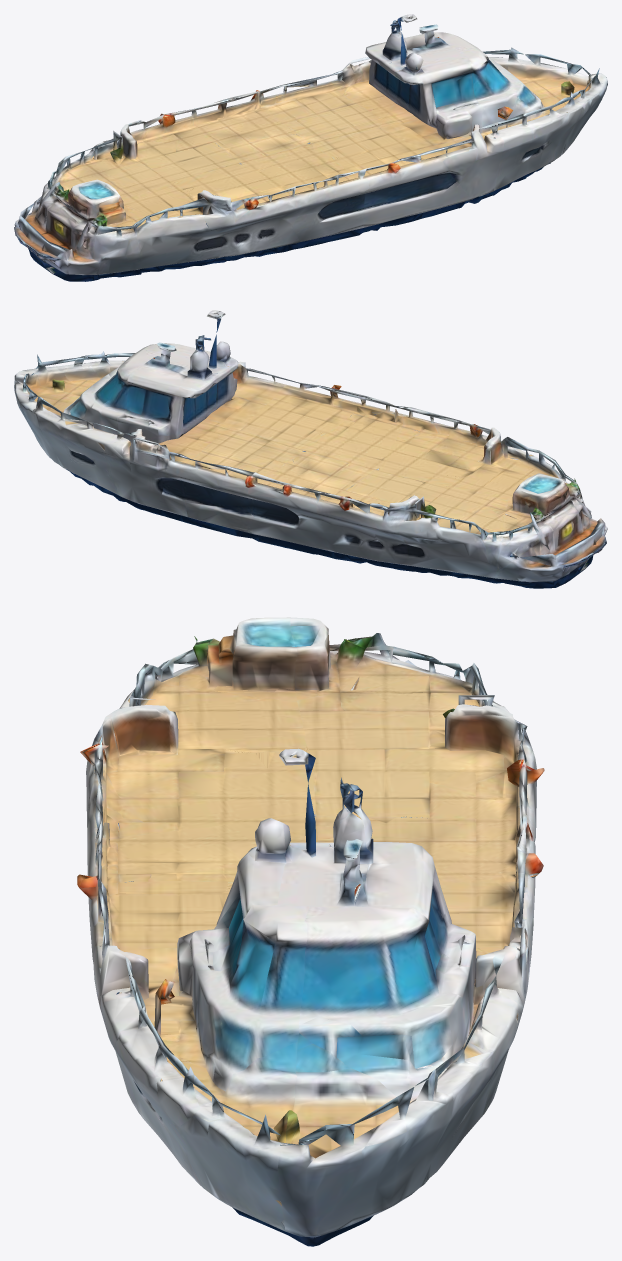
File: cruiser.glb
3 views of the same model, one above another, from view 1: azimuth 30°, elevation 25°; view 2: azimuth 150°, elevation 25°; view 3: azimuth 270°, elevation 25° (orthographic). The views are drawn at different scales.
Visible parts, largest first — view 1: prop; view 2: prop; view 3: prop.
Part boxes in pixels (x1,y1,x2,y2): prop: (14, 14, 607, 281); prop: (14, 310, 607, 588); prop: (77, 617, 544, 1246).
Size of the model in its own units: 3.27 by 1 by 1.15.
1 material, 1 textured.
